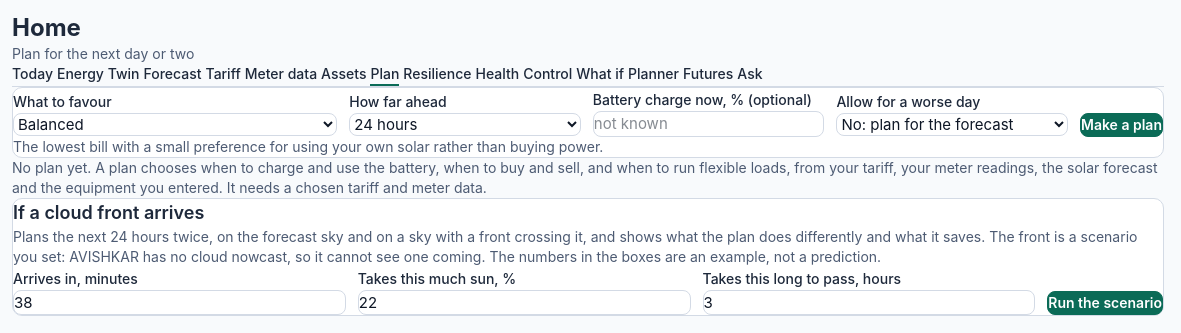
Test: PlanView › shows a plan that failed its own check as a failure with the problems, never as a plan
Expected: the text "No plan yet" is shown, left=12, top=158, right=1158, bottom=196
Click the button "Make a plan": coordinates (1122, 125) left=1080, top=113, right=1163, bottom=136
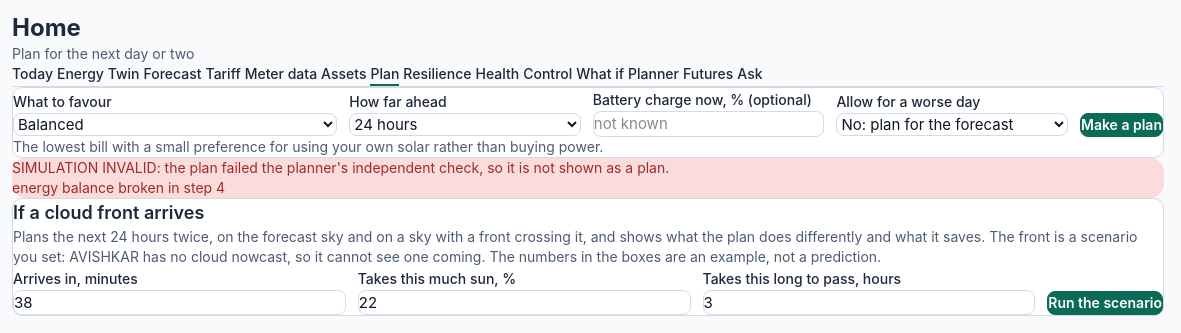
Expected: the message shows "SIMULATION INVALID", left=12, top=158, right=669, bottom=176
Expected: the message shows "energy balance broken in step 4", left=12, top=178, right=225, bottom=196
